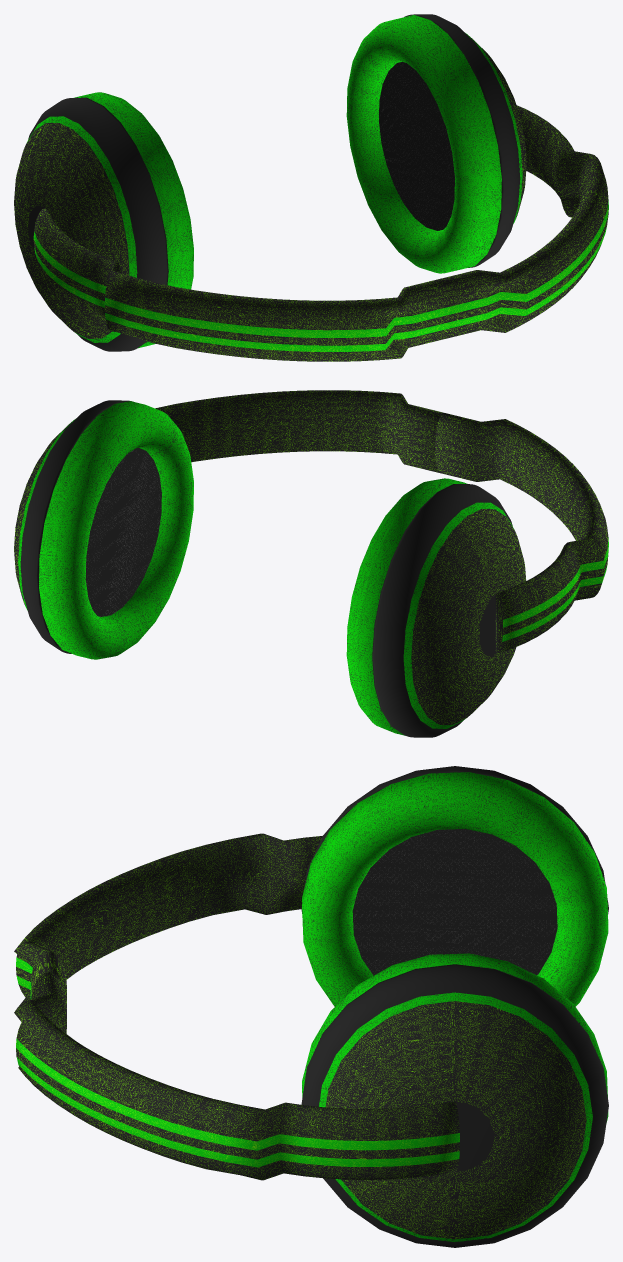
File: model_scale.obj
The picture shows the model from 3 angles, top to bottom: view 1: azimuth 30°, elevation 25°; view 2: azimuth 150°, elevation 25°; view 3: azimuth 270°, elevation 25°; orthographic projection. The views are drawn at different scales.
Parts seen in each view (by area): view 1: mesh6_mesh6-geometry, mesh1_mesh1-geometry, mesh2_mesh2-geometry, mesh5_mesh5-geometry; view 2: mesh6_mesh6-geometry, mesh1_mesh1-geometry, mesh2_mesh2-geometry, mesh5_mesh5-geometry; view 3: mesh2_mesh2-geometry, mesh5_mesh5-geometry, mesh6_mesh6-geometry, mesh1_mesh1-geometry.
Part boxes in pixels (left/top/right/bottom): mesh6_mesh6-geometry: left=14, top=97, right=450, bottom=361; mesh1_mesh1-geometry: left=346, top=15, right=501, bottom=273; mesh2_mesh2-geometry: left=404, top=14, right=608, bottom=338; mesh5_mesh5-geometry: left=74, top=92, right=193, bottom=348; mesh6_mesh6-geometry: left=372, top=413, right=608, bottom=737; mesh1_mesh1-geometry: left=39, top=401, right=193, bottom=659; mesh2_mesh2-geometry: left=14, top=390, right=443, bottom=653; mesh5_mesh5-geometry: left=346, top=478, right=467, bottom=735; mesh2_mesh2-geometry: left=14, top=964, right=608, bottom=1247; mesh5_mesh5-geometry: left=302, top=772, right=608, bottom=1006; mesh6_mesh6-geometry: left=14, top=766, right=608, bottom=1005; mesh1_mesh1-geometry: left=302, top=953, right=608, bottom=1123.
Bounding box in the file's own units: 0.1623 × 0.0734 × 0.1419.
4 materials, 1 textured.
